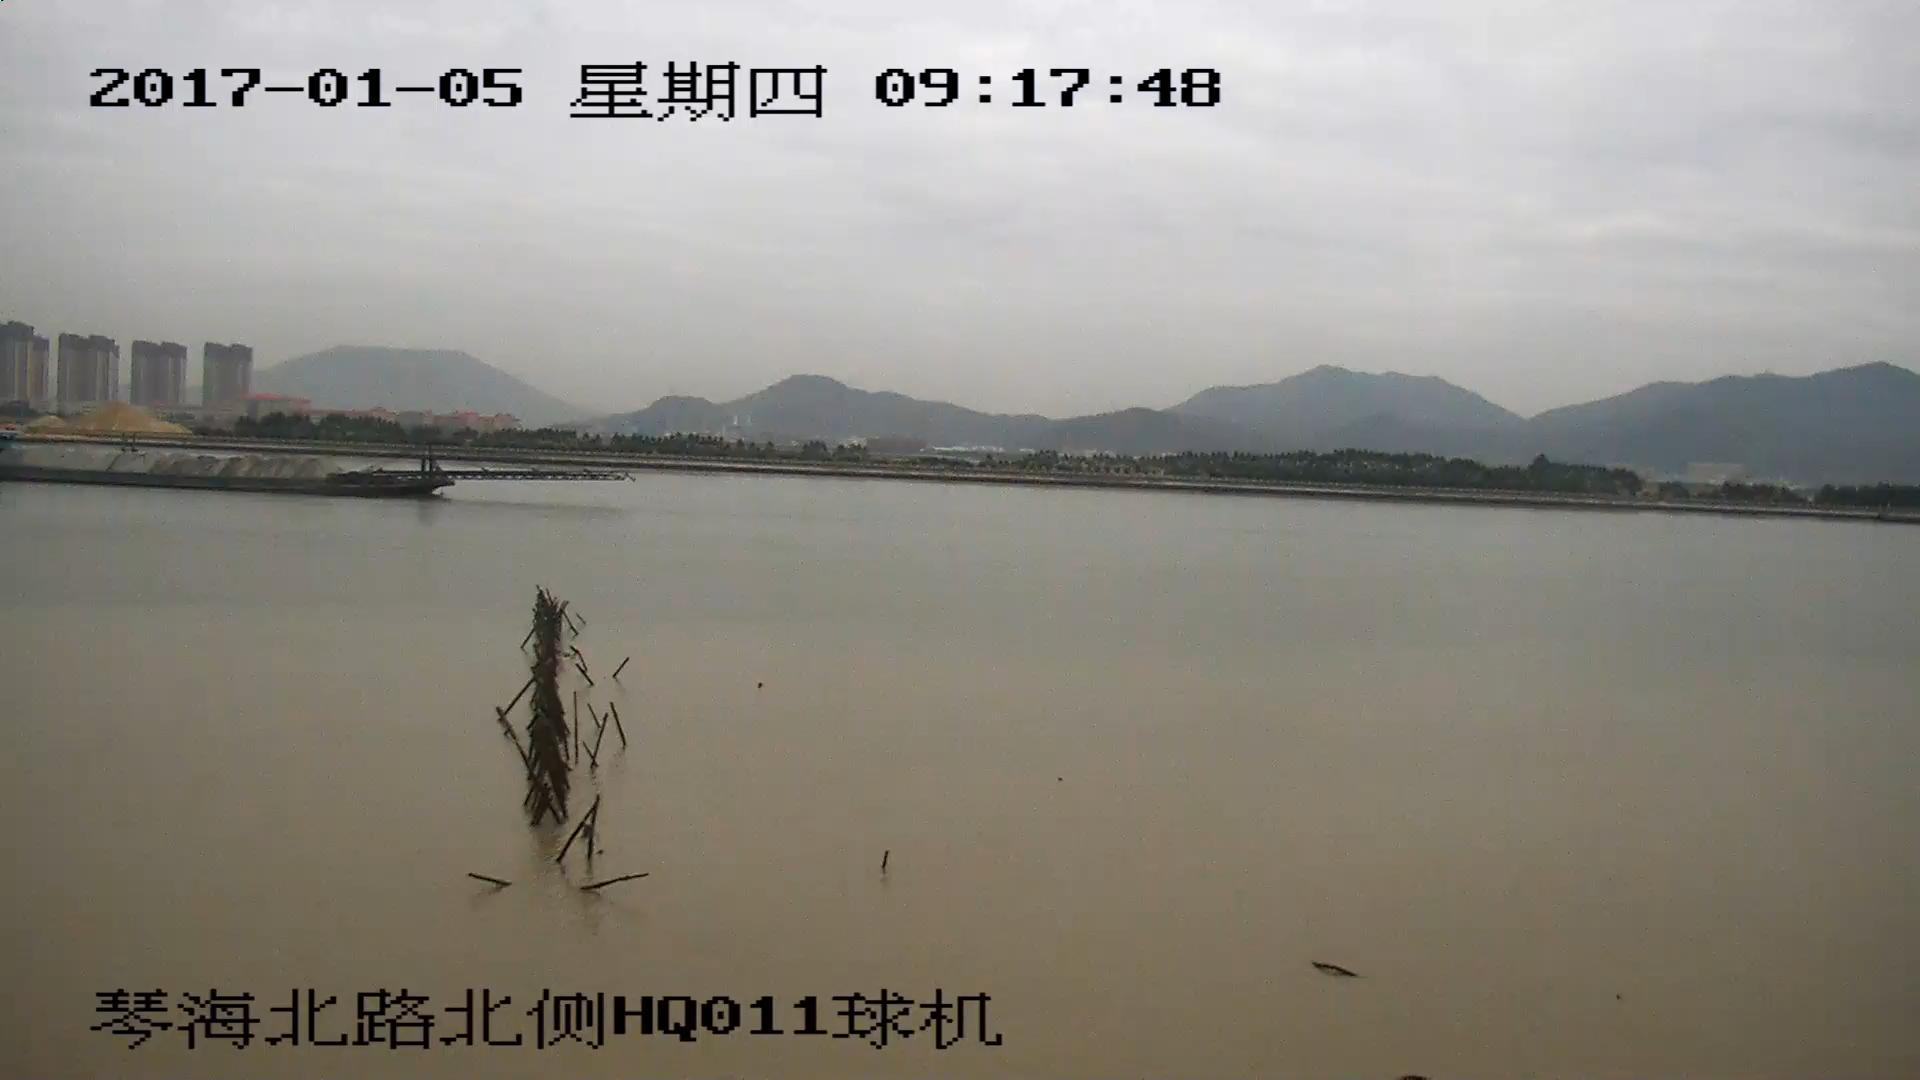Ship: (3, 440, 626, 498)
